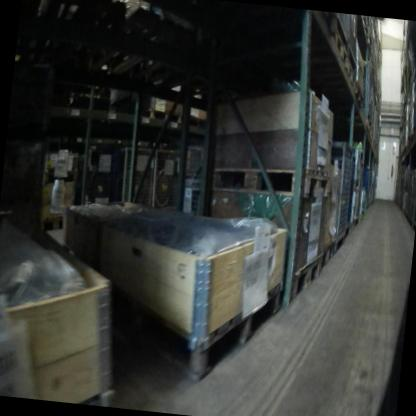pallet: (102, 262, 287, 390), (121, 0, 220, 115), (21, 0, 138, 83), (209, 156, 330, 212), (284, 249, 323, 313), (30, 206, 81, 243), (304, 237, 336, 278), (325, 23, 352, 66), (336, 54, 359, 94), (346, 82, 365, 113), (355, 115, 373, 141), (401, 132, 416, 154), (410, 119, 416, 146)
stillage: (69, 130, 123, 227), (313, 134, 355, 255), (113, 138, 159, 214), (150, 146, 185, 218), (178, 147, 208, 217), (343, 151, 356, 238), (354, 162, 371, 218), (401, 165, 416, 225), (363, 88, 379, 140), (355, 159, 366, 224)
